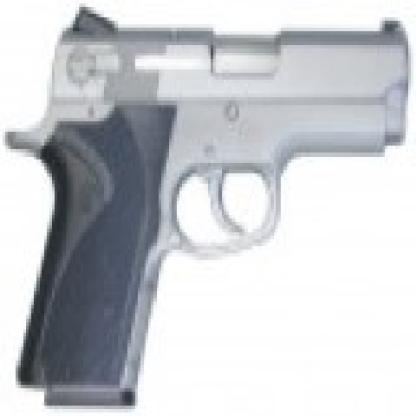pistol: (8, 7, 406, 399)
